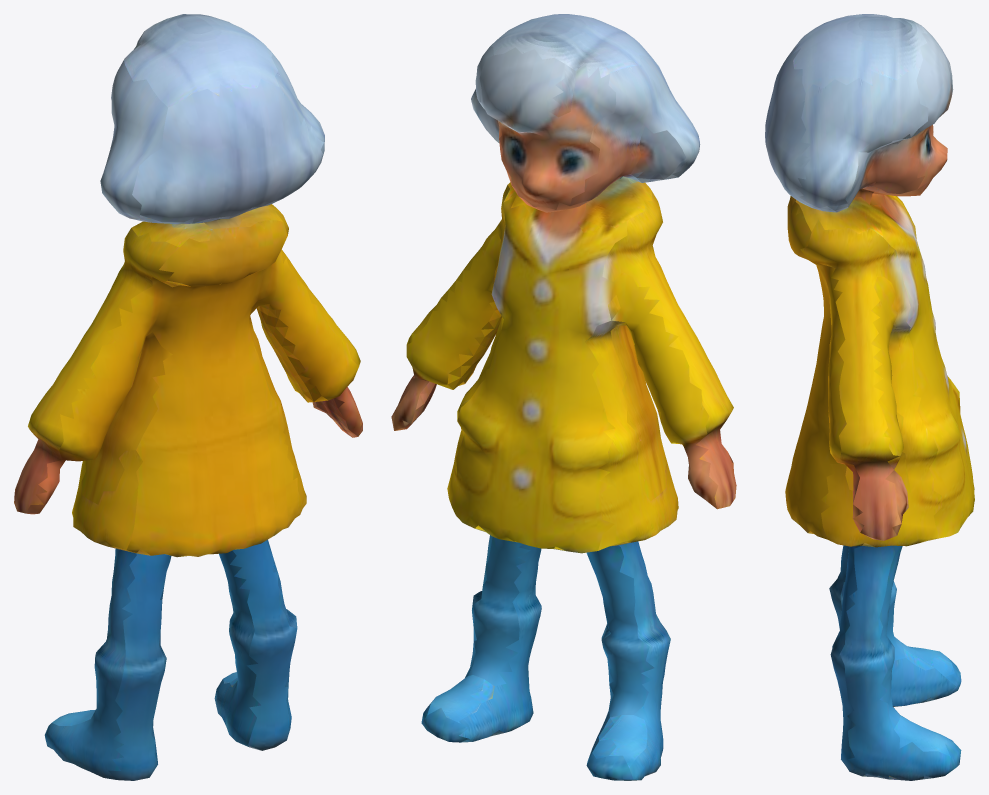
The model's file is cloud-toon-raw.glb.
The picture shows the model from 3 angles, left to right: view 1: azimuth 30°, elevation 25°; view 2: azimuth 150°, elevation 25°; view 3: azimuth 270°, elevation 25°; orthographic projection.
Parts seen in each view (by area): view 1: world; view 2: world; view 3: world.
Part boxes in pixels (left/top/right/bottom): world: left=14, top=14, right=362, bottom=780; world: left=391, top=14, right=736, bottom=780; world: left=765, top=14, right=974, bottom=780.
Size of the model in its own units: 0.4641 by 0.9504 by 0.2522.
Materials: 1 (1 with a texture image).
